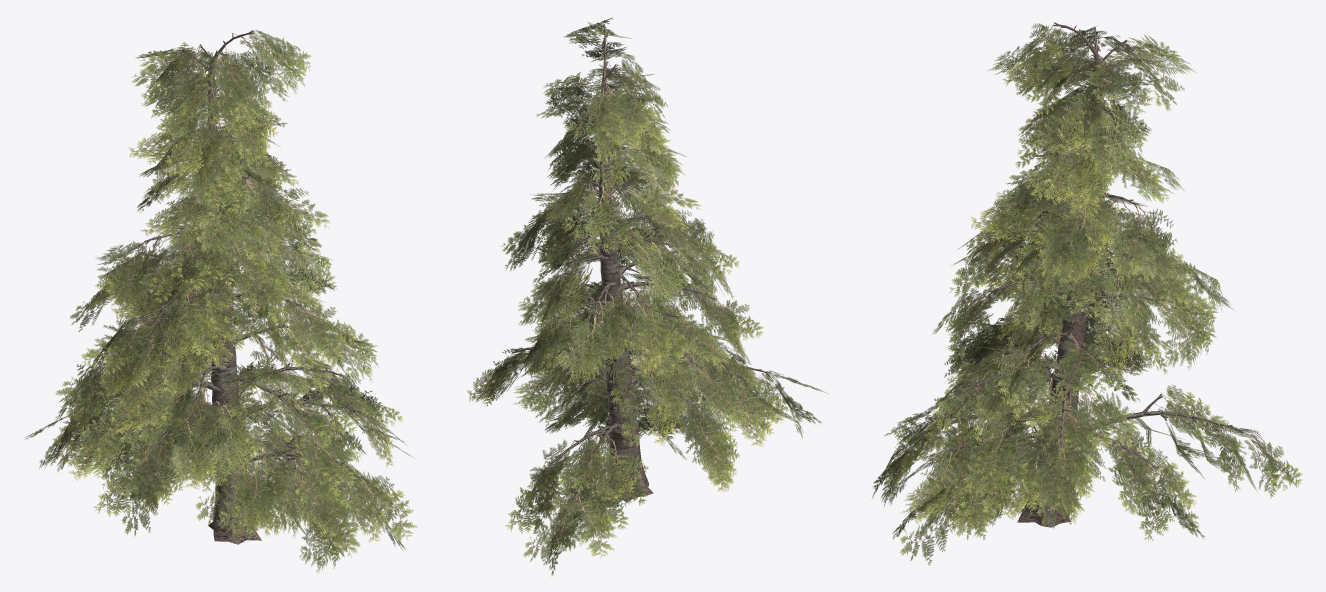
File: conifer.glb
The picture shows the model from 3 angles, left to right: view 1: azimuth 30°, elevation 25°; view 2: azimuth 150°, elevation 25°; view 3: azimuth 270°, elevation 25°; orthographic projection. The views are drawn at different scales.
Visible parts, largest first — view 1: Object_3, Object_7, Object_4, Object_6, Object_9, Object_5, Object_8, Object_2; view 2: Object_3, Object_5, Object_7, Object_9, Object_6, Object_4, Object_8, Object_2; view 3: Object_6, Object_3, Object_4, Object_7, Object_5, Object_9, Object_8, Object_2.
Boxes of the visible parts, <box> form: Object_3: <box>75,31,393,573</box>; Object_7: <box>39,72,400,541</box>; Object_4: <box>63,69,403,549</box>; Object_6: <box>53,37,404,528</box>; Object_9: <box>26,30,417,540</box>; Object_5: <box>46,42,376,557</box>; Object_8: <box>55,30,413,550</box>; Object_2: <box>87,30,361,544</box>; Object_3: <box>513,22,761,554</box>; Object_5: <box>501,62,788,494</box>; Object_7: <box>467,86,799,502</box>; Object_9: <box>479,17,783,557</box>; Object_6: <box>505,35,827,537</box>; Object_4: <box>495,79,763,575</box>; Object_8: <box>476,31,803,565</box>; Object_2: <box>512,24,770,502</box>; Object_6: <box>924,27,1248,541</box>; Object_3: <box>881,26,1256,520</box>; Object_4: <box>872,50,1302,537</box>; Object_7: <box>908,57,1182,536</box>; Object_5: <box>872,44,1217,523</box>; Object_9: <box>882,23,1268,539</box>; Object_8: <box>890,26,1297,565</box>; Object_2: <box>912,22,1244,527</box>.
Size of the model in its own units: 8.7 by 12.07 by 9.35.
8 materials, 8 textured.
